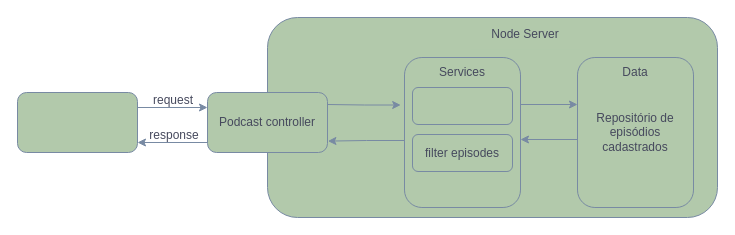
This 735x235 diagram has some shape labels left out. The shapes that lost their labels are listed below. From the top down, each one's box as (x1, y1, x2, y2) in pixels, then its label:
(16, 92, 138, 152): server port: 3333
(412, 86, 512, 124): list episodes
